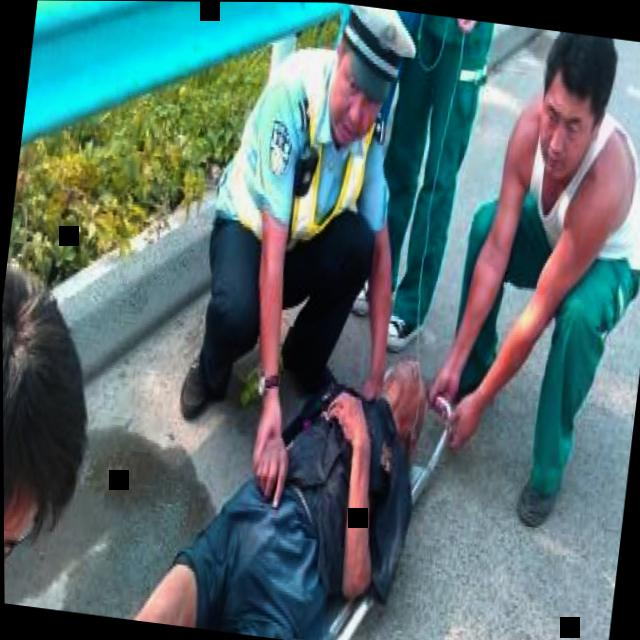Fall-Detected: (72, 294, 465, 640)
